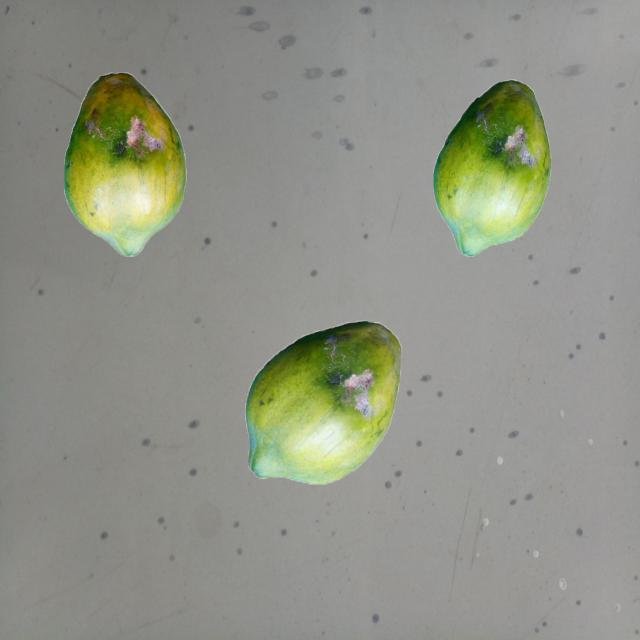Pepaya rippen: (248, 320, 420, 498), (58, 45, 191, 260), (433, 62, 555, 277)
